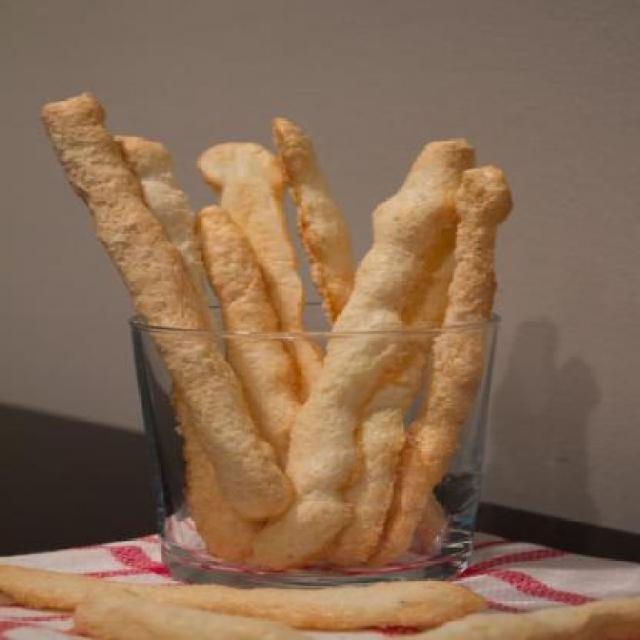Grissini: (50, 90, 512, 556)
